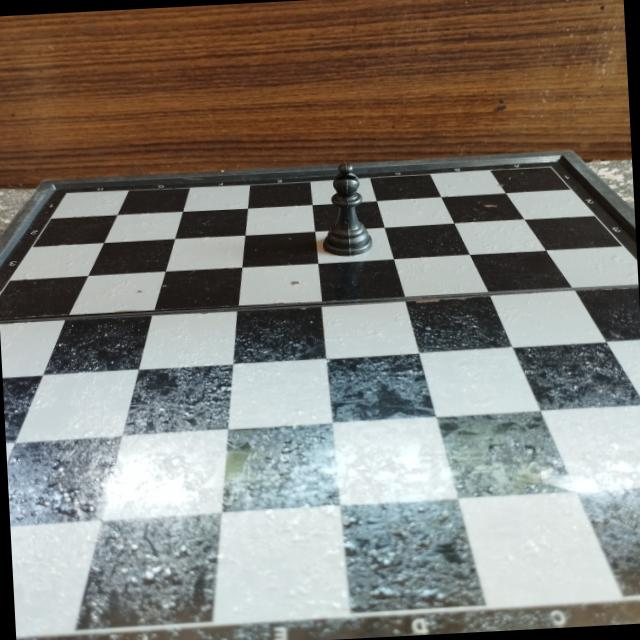Black Bishop: (315, 154, 383, 268)
